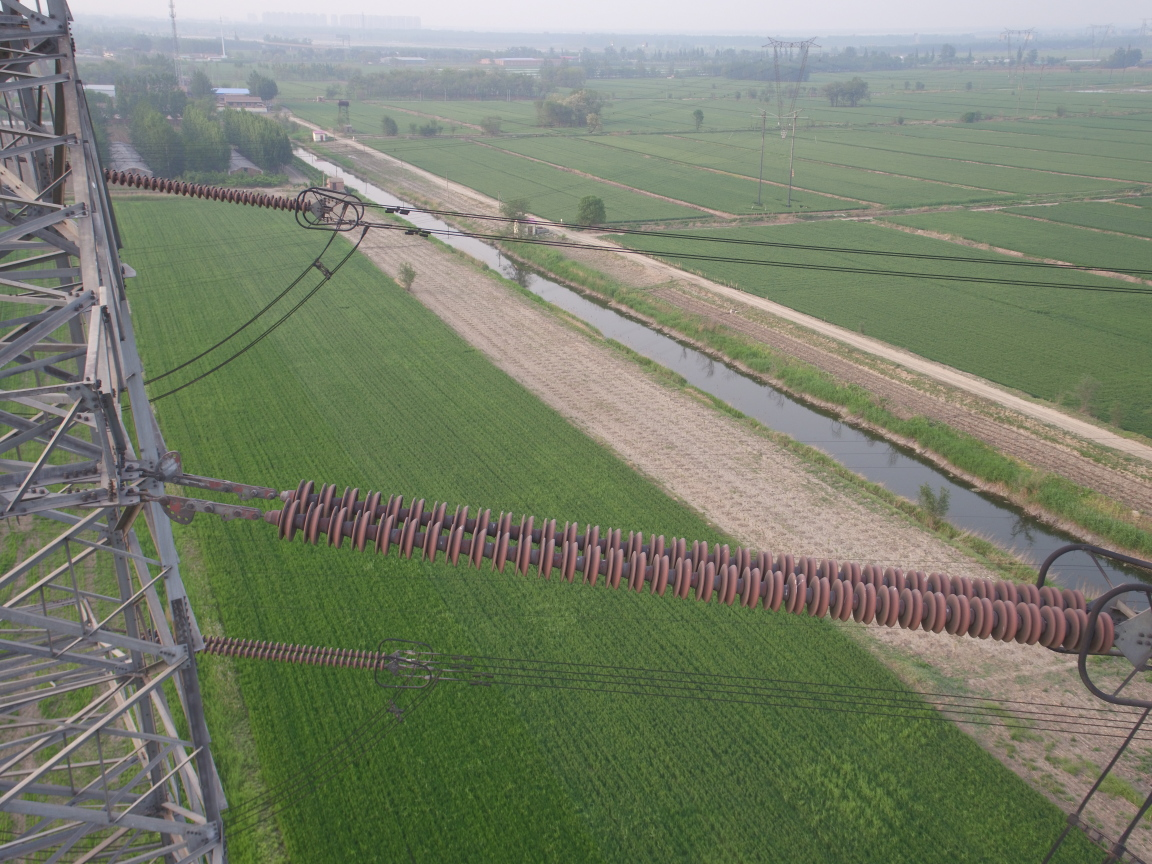insulator: (227, 472, 1137, 661), (106, 170, 319, 214), (204, 636, 397, 673)
